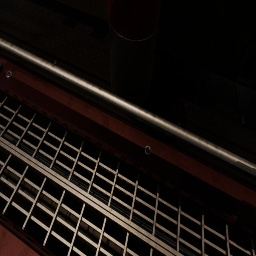NitrogenTank ,: (108, 0, 161, 107)
